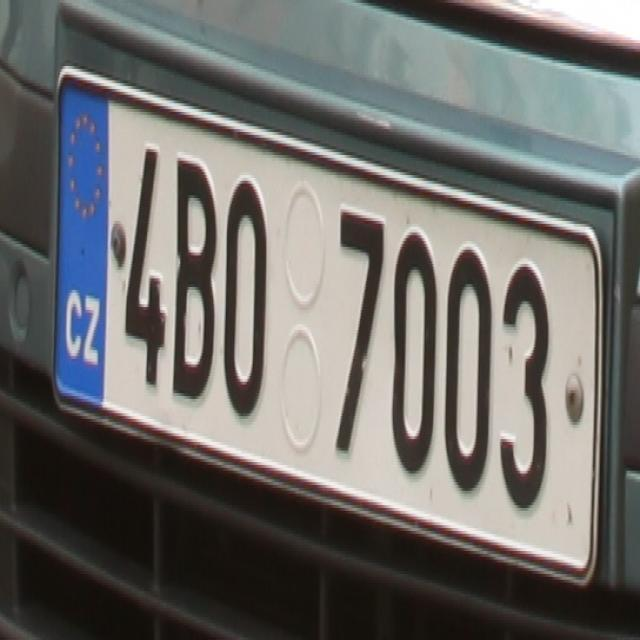0: (445, 241, 493, 488), (222, 175, 267, 422), (392, 224, 436, 474)
3: (500, 258, 550, 508)
4: (121, 134, 166, 390)
7: (334, 195, 384, 459)
B: (170, 152, 217, 408)
